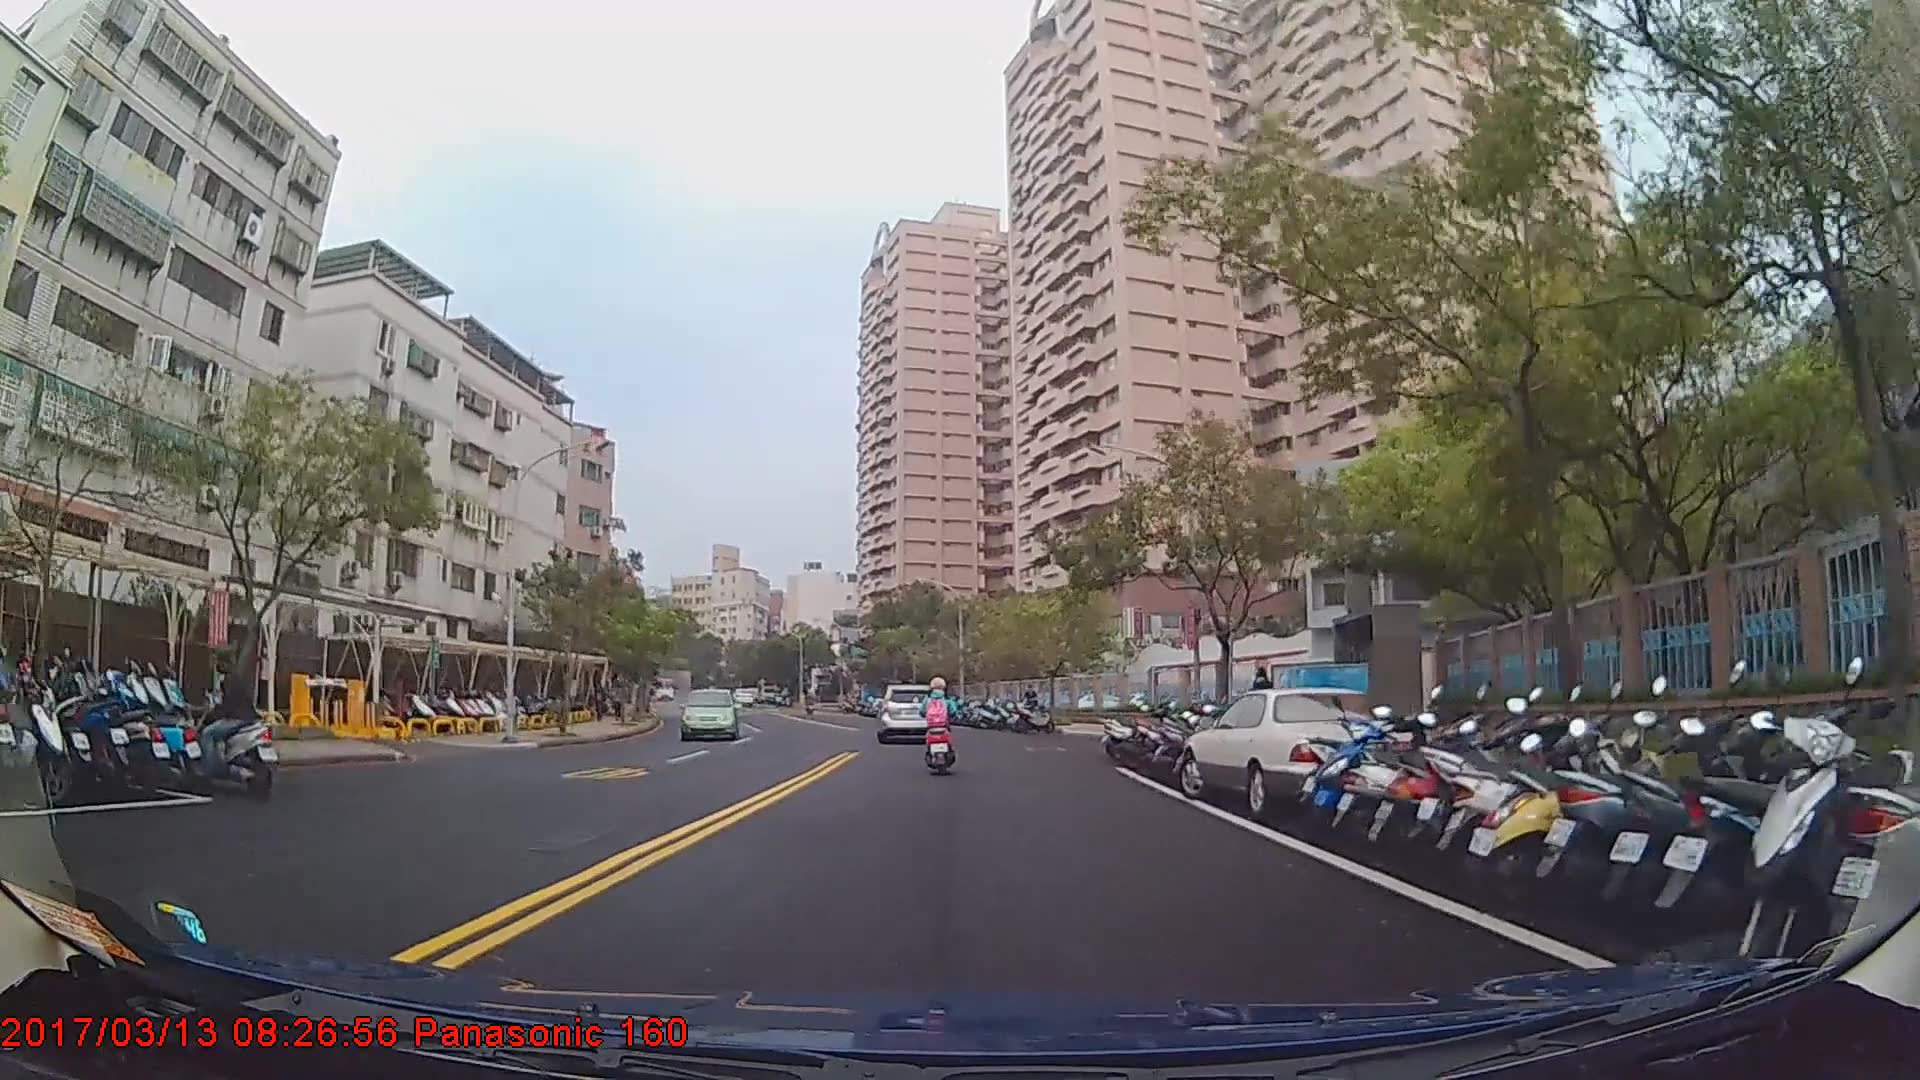pedestrian: (1250, 665, 1276, 737), (1022, 684, 1042, 725)
rider: (172, 645, 281, 799), (919, 674, 963, 775)
vehicle: (1176, 685, 1435, 815), (874, 680, 937, 740), (680, 687, 738, 741)
